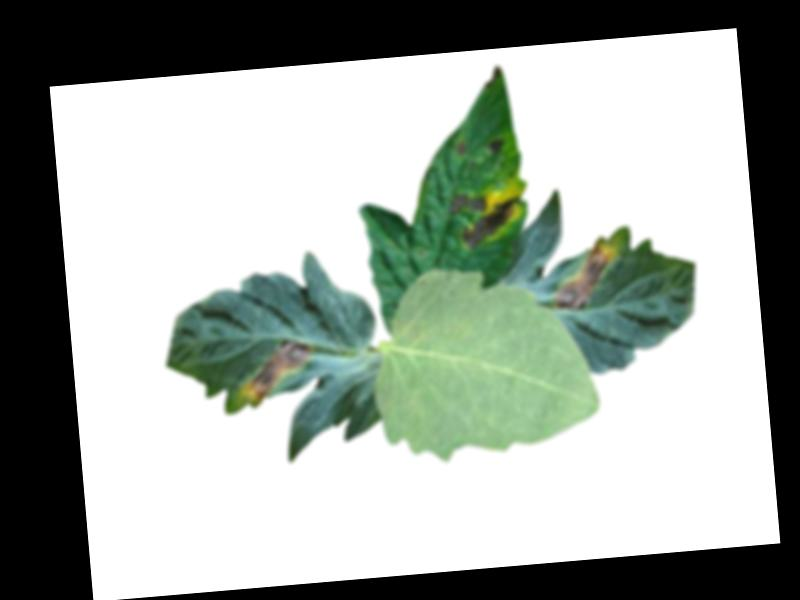Early_blight: (551, 235, 621, 315), (239, 337, 313, 407), (448, 188, 525, 252), (481, 63, 503, 92), (486, 138, 509, 158), (454, 142, 469, 158)
healthy: (364, 255, 602, 469)
